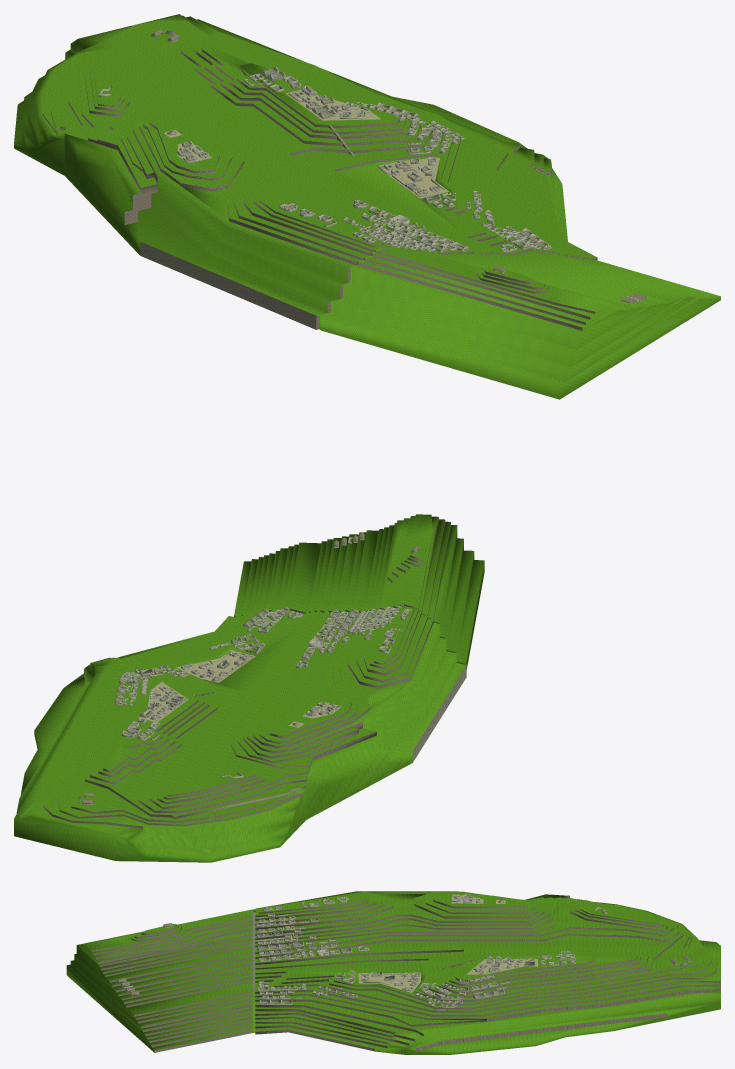
The model's file is MAIN.glb.
3 renders of one model, top to bottom at view 1: azimuth 30°, elevation 25°; view 2: azimuth 150°, elevation 25°; view 3: azimuth 270°, elevation 25°, orthographic. The views are drawn at different scales.
Parts seen in each view (by area): view 1: GDLM1_Vegetation_HoneyLocus, GDLM2_Groundcover_RiverRock, GDLM6_Sketchy_Stone_Ashlar_, GDLM8_Groundcover_Sand_Smoo, GDLM7_Groundcover_Wood_Mix_; view 2: GDLM1_Vegetation_HoneyLocus, GDLM2_Groundcover_RiverRock, GDLM6_Sketchy_Stone_Ashlar_, GDLM8_Groundcover_Sand_Smoo, GDLM7_Groundcover_Wood_Mix_; view 3: GDLM1_Vegetation_HoneyLocus, GDLM2_Groundcover_RiverRock, GDLM6_Sketchy_Stone_Ashlar_, GDLM8_Groundcover_Sand_Smoo, GDLM7_Groundcover_Wood_Mix_, GDLM4_Cladding_Siding_White.
Part boxes in pixels (x1,y1,x2,y2): GDLM1_Vegetation_HoneyLocus: [14, 14, 720, 399]; GDLM2_Groundcover_RiverRock: [42, 49, 597, 330]; GDLM6_Sketchy_Stone_Ashlar_: [98, 32, 645, 329]; GDLM8_Groundcover_Sand_Smoo: [164, 89, 449, 198]; GDLM7_Groundcover_Wood_Mix_: [167, 71, 542, 251]; GDLM1_Vegetation_HoneyLocus: [14, 514, 484, 862]; GDLM2_Groundcover_RiverRock: [43, 517, 450, 828]; GDLM6_Sketchy_Stone_Ashlar_: [82, 536, 466, 804]; GDLM8_Groundcover_Sand_Smoo: [139, 650, 336, 727]; GDLM7_Groundcover_Wood_Mix_: [116, 539, 411, 739]; GDLM1_Vegetation_HoneyLocus: [66, 891, 720, 1054]; GDLM2_Groundcover_RiverRock: [91, 896, 720, 1052]; GDLM6_Sketchy_Stone_Ashlar_: [117, 894, 691, 1010]; GDLM8_Groundcover_Sand_Smoo: [358, 895, 537, 992]; GDLM7_Groundcover_Wood_Mix_: [257, 895, 574, 1003]; GDLM4_Cladding_Siding_White: [252, 912, 255, 991].
Size of the model in its own units: 109 by 17.35 by 199.
Materials: 10 (9 with a texture image).
